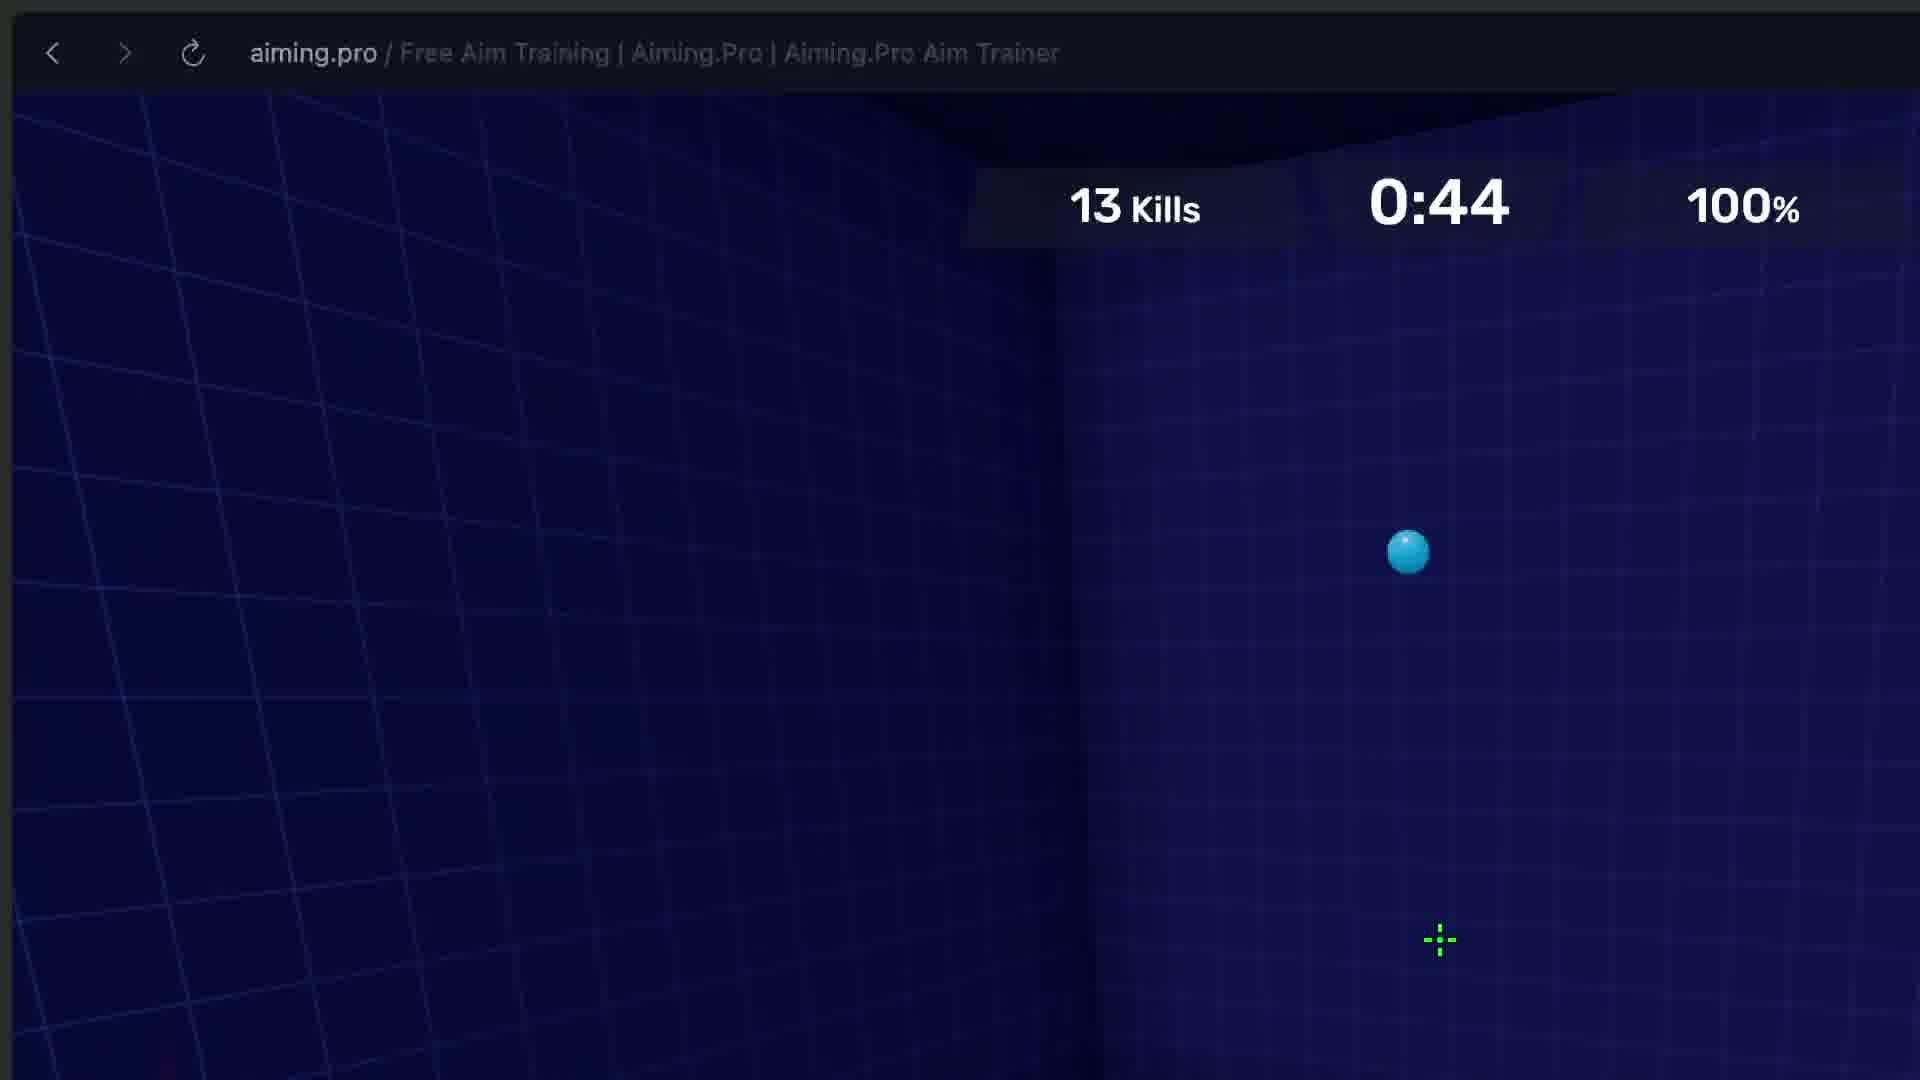target: (1387, 529, 1429, 574)
